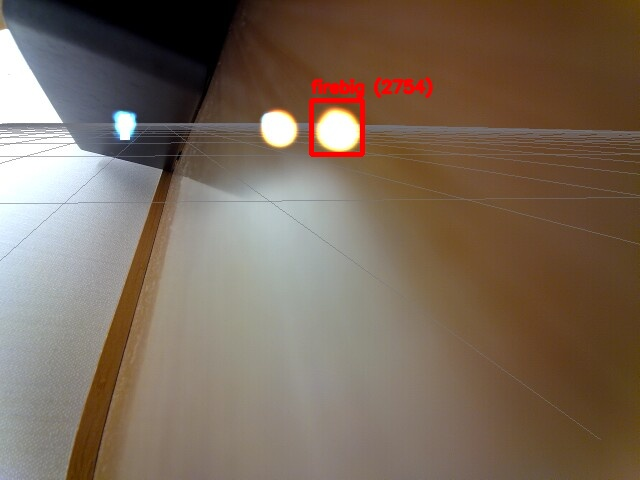firebig: (311, 100, 362, 154)
